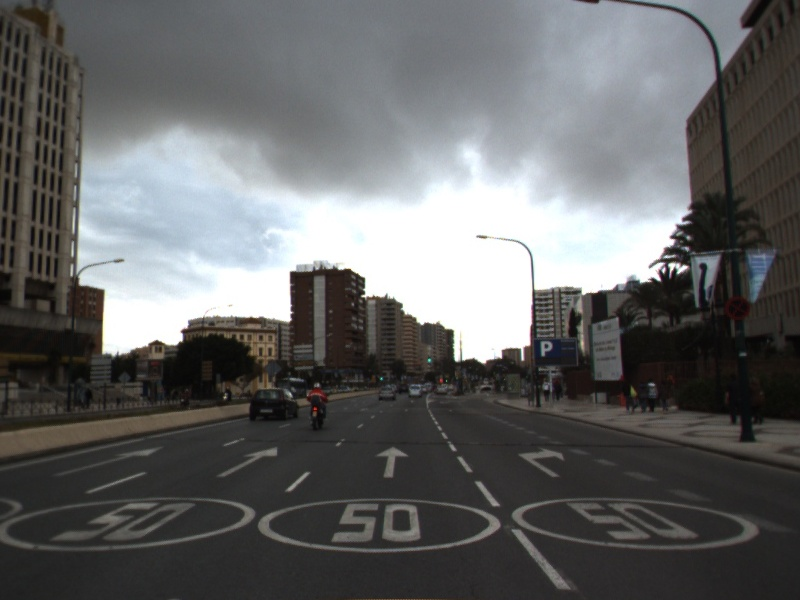RIGHT: (515, 444, 567, 479)
STRAIGHT: (48, 444, 167, 479), (214, 445, 279, 479), (373, 444, 412, 480)
